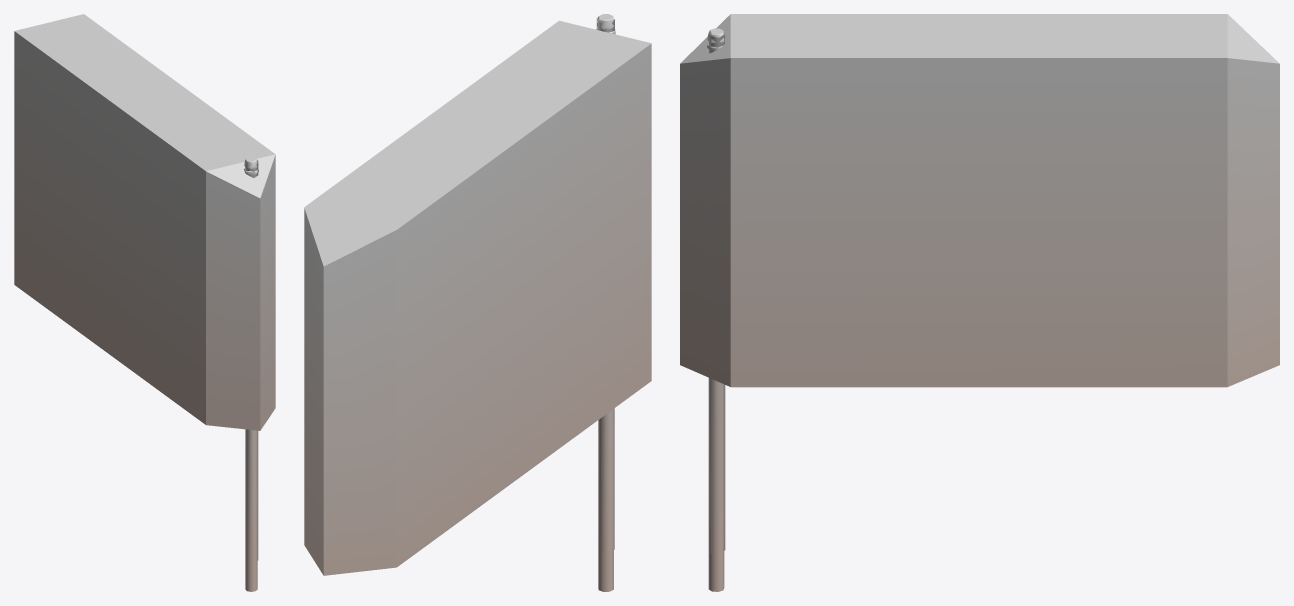
Rendered from fence_pedestrian.dae.
The picture shows the model from 3 angles, left to right: view 1: azimuth 30°, elevation 25°; view 2: azimuth 150°, elevation 25°; view 3: azimuth 270°, elevation 25°; orthographic projection. The views are drawn at different scales.
Parts seen in each view (by area): view 1: Colmesh-1, fence_pedestrian_a100, fence_pedestrian_a050; view 2: Colmesh-1, fence_pedestrian_a100, fence_pedestrian_a050; view 3: Colmesh-1, fence_pedestrian_a100, fence_pedestrian_a050.
Boxes of the visible parts, x1,y1,x2,y2 form: Colmesh-1: (14, 14, 275, 430); fence_pedestrian_a100: (244, 157, 258, 591); fence_pedestrian_a050: (245, 160, 258, 562); Colmesh-1: (304, 20, 651, 575); fence_pedestrian_a100: (596, 14, 615, 591); fence_pedestrian_a050: (596, 17, 614, 552); Colmesh-1: (680, 14, 1279, 387); fence_pedestrian_a100: (707, 28, 725, 591); fence_pedestrian_a050: (707, 34, 725, 553).
Size of the model in its own units: 0.4 by 2.3 by 2.36.
